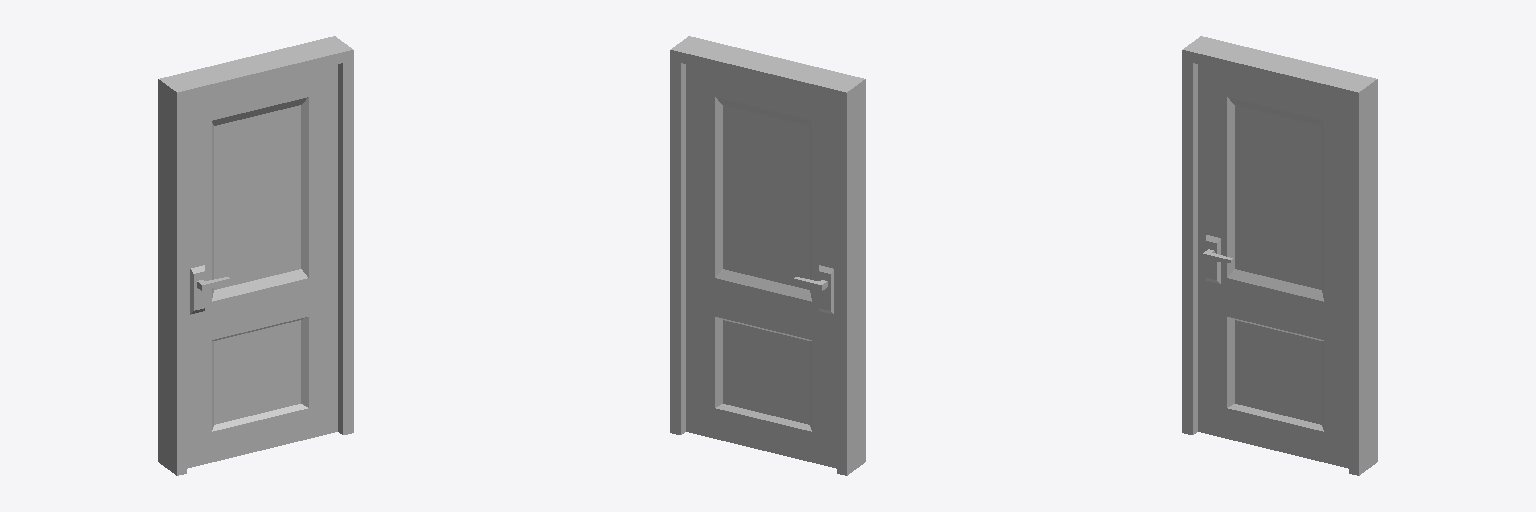
The model's file is doorway.obj.
3 renders of one model, left to right at view 1: azimuth 30°, elevation 25°; view 2: azimuth 150°, elevation 25°; view 3: azimuth 330°, elevation 25°, orthographic.
Parts seen in each view (by area): view 1: door 3, doorway; view 2: door 3, doorway; view 3: door 3, doorway.
Part boxes in pixels (x1,y1,x2,y2): door 3: (187, 64, 337, 468); doorway: (158, 36, 353, 475); door 3: (686, 64, 836, 468); doorway: (670, 36, 865, 475); door 3: (1198, 64, 1348, 468); doorway: (1182, 36, 1377, 475).
Bounding box in the file's own units: 4.86 × 10.1 × 1.13.